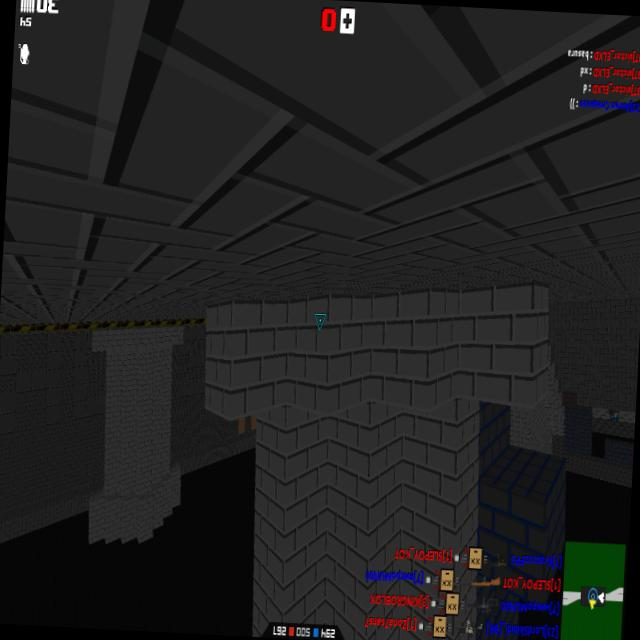enemy: (607, 406, 620, 424)
